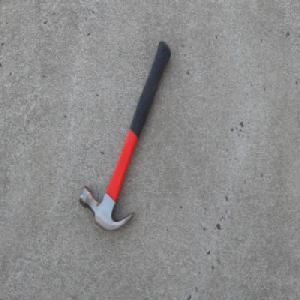Hammer: (78, 38, 171, 232)
